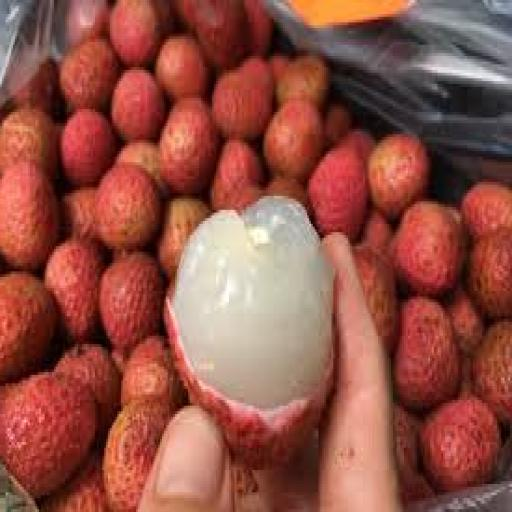lychee: (165, 199, 332, 467), (0, 373, 95, 498), (392, 297, 458, 411), (102, 401, 170, 511), (420, 398, 499, 492), (392, 202, 464, 296), (98, 252, 162, 352), (53, 345, 120, 439), (0, 163, 58, 271), (44, 238, 103, 344), (0, 272, 56, 383), (158, 98, 218, 195), (307, 146, 367, 240), (94, 166, 160, 251), (368, 135, 429, 218), (212, 59, 272, 139), (262, 101, 322, 181), (353, 247, 397, 355), (121, 336, 183, 411), (156, 196, 209, 279), (59, 110, 116, 187), (59, 40, 118, 109), (109, 68, 164, 142), (0, 107, 56, 179), (467, 227, 511, 318), (472, 322, 511, 422), (40, 454, 106, 511), (210, 140, 263, 209), (154, 37, 209, 100), (109, 0, 160, 67), (115, 140, 166, 198), (461, 182, 511, 240), (275, 56, 328, 109), (444, 286, 483, 355), (61, 188, 97, 240), (243, 0, 272, 55), (264, 177, 308, 209), (361, 210, 391, 254), (323, 104, 350, 145)
